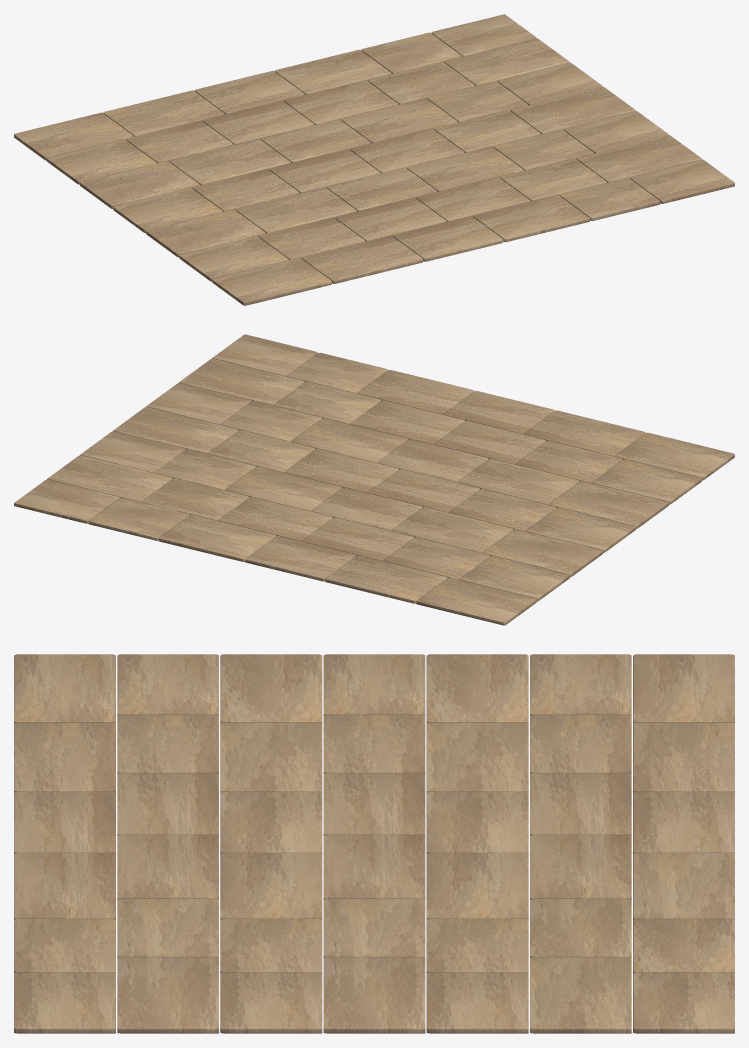
File: CM_SW10_FlagstoneFloor.fbx
3 renders of one model, top to bottom at view 1: azimuth 30°, elevation 25°; view 2: azimuth 150°, elevation 25°; view 3: azimuth 270°, elevation 25°, orthographic. The views are drawn at different scales.
Visible parts, largest first — view 1: CM_SW10_FlagstoneFloor; view 2: CM_SW10_FlagstoneFloor; view 3: CM_SW10_FlagstoneFloor.
Part boxes in pixels (box(x1,y1,x2,y2)): CM_SW10_FlagstoneFloor: box(14, 14, 734, 305); CM_SW10_FlagstoneFloor: box(14, 334, 734, 625); CM_SW10_FlagstoneFloor: box(14, 654, 734, 1033).
Size of the model in its own units: 5.38 by 0.033 by 4.38.
